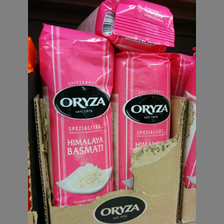rice: (39, 23, 114, 205), (112, 50, 172, 189), (74, 1, 175, 52)
